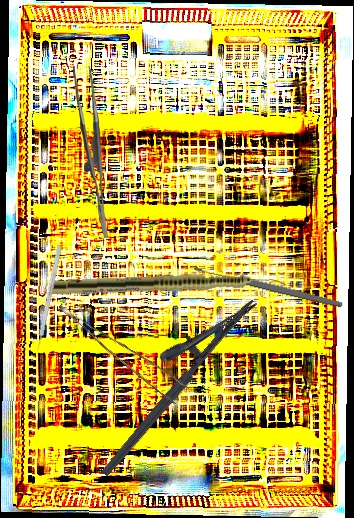Handpiece: (50, 270, 287, 299)
Hook Surgical: (33, 245, 63, 358)
Needle Holder: (76, 276, 259, 479)
Surgical Spoon: (193, 263, 344, 310)
Tissue Forceps: (58, 285, 190, 411), (73, 66, 108, 238)
